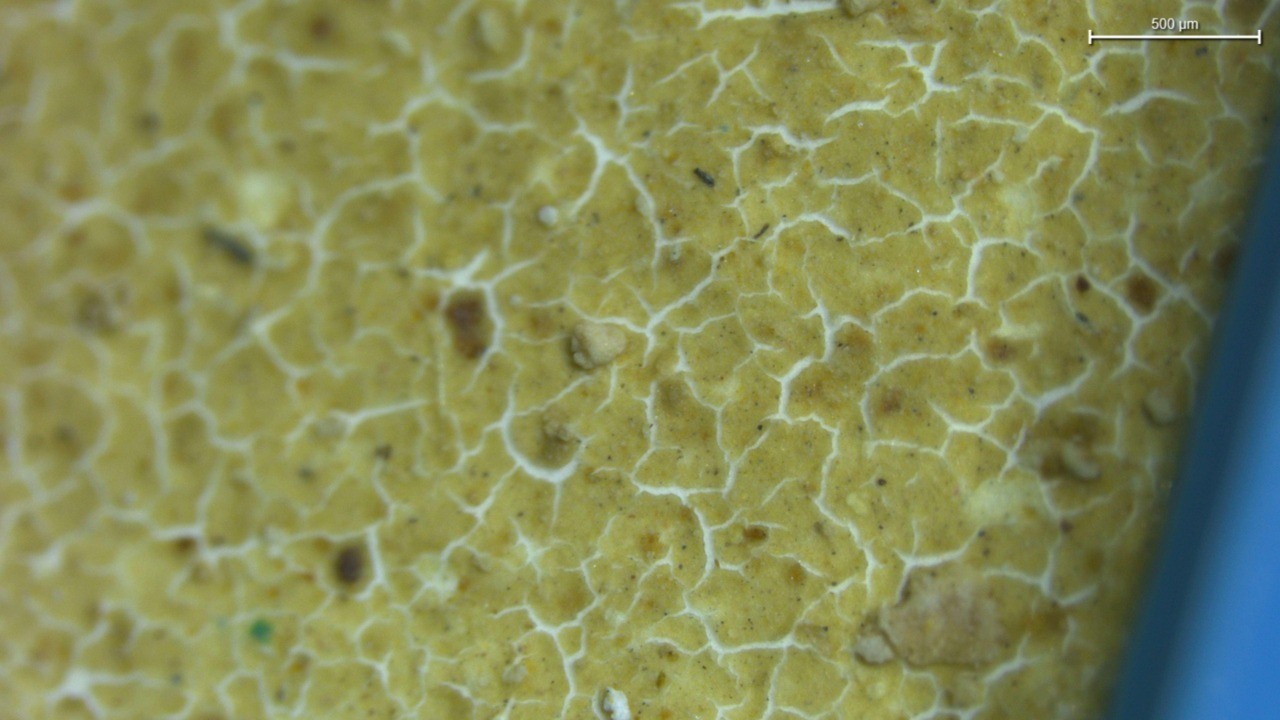microplastic_fragment: (568, 321, 626, 371), (854, 632, 894, 664)
